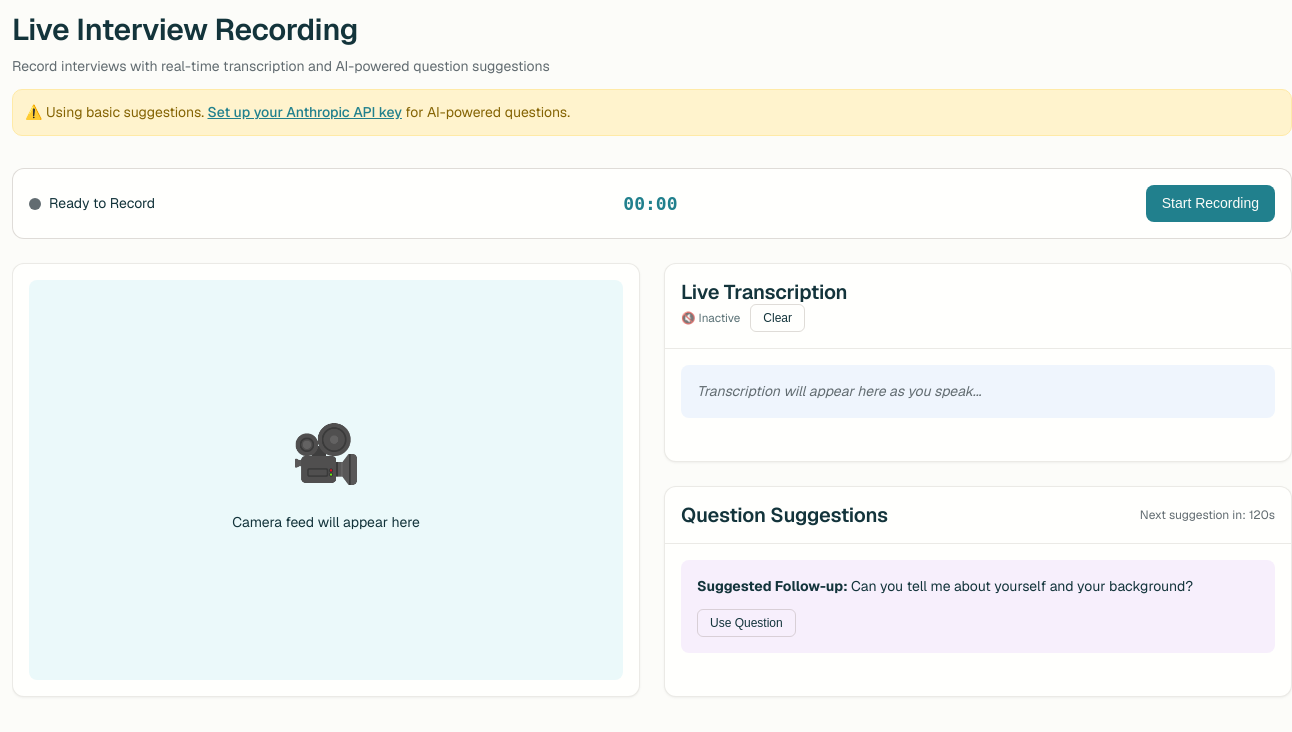
LiveInterview › uses AI suggestion when button is clicked
Click the button "Start Recording".
click(1210, 204)  # box left=1146, top=185, right=1275, bottom=222
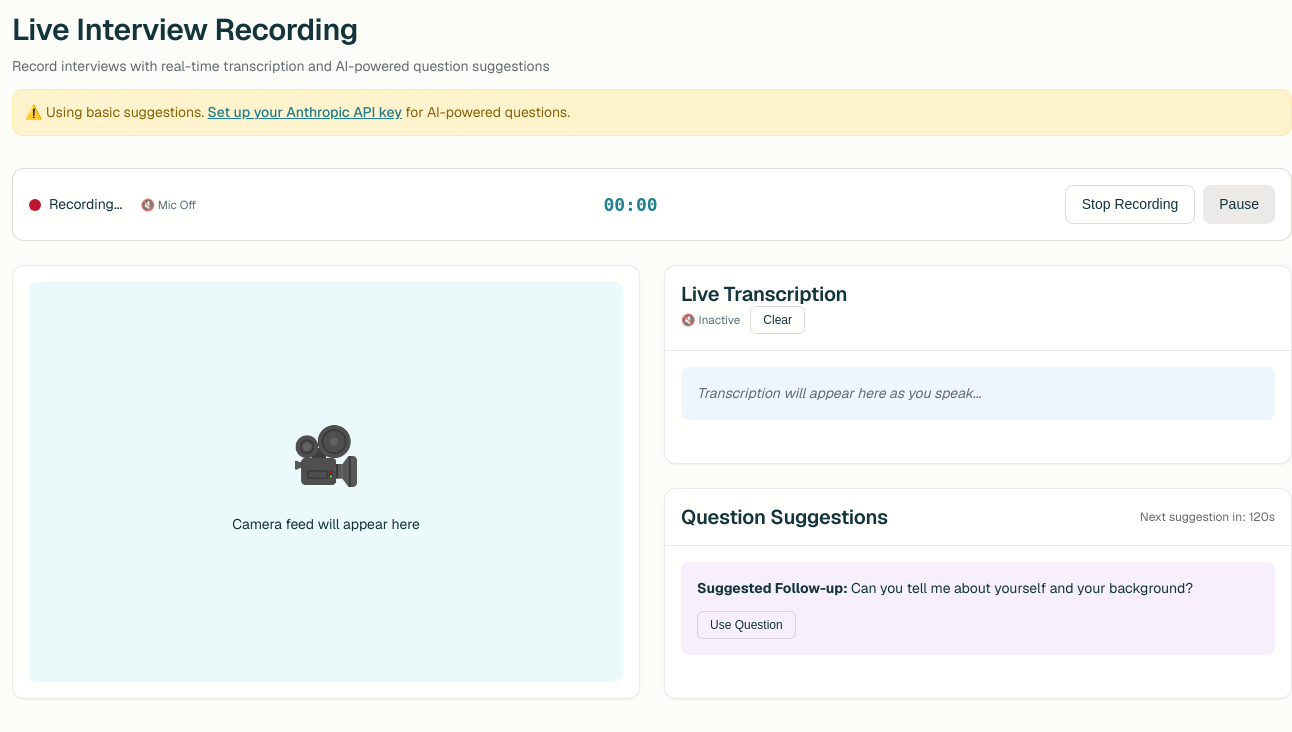
Click the button "Use Question".
click(746, 625)  # box left=697, top=611, right=796, bottom=639
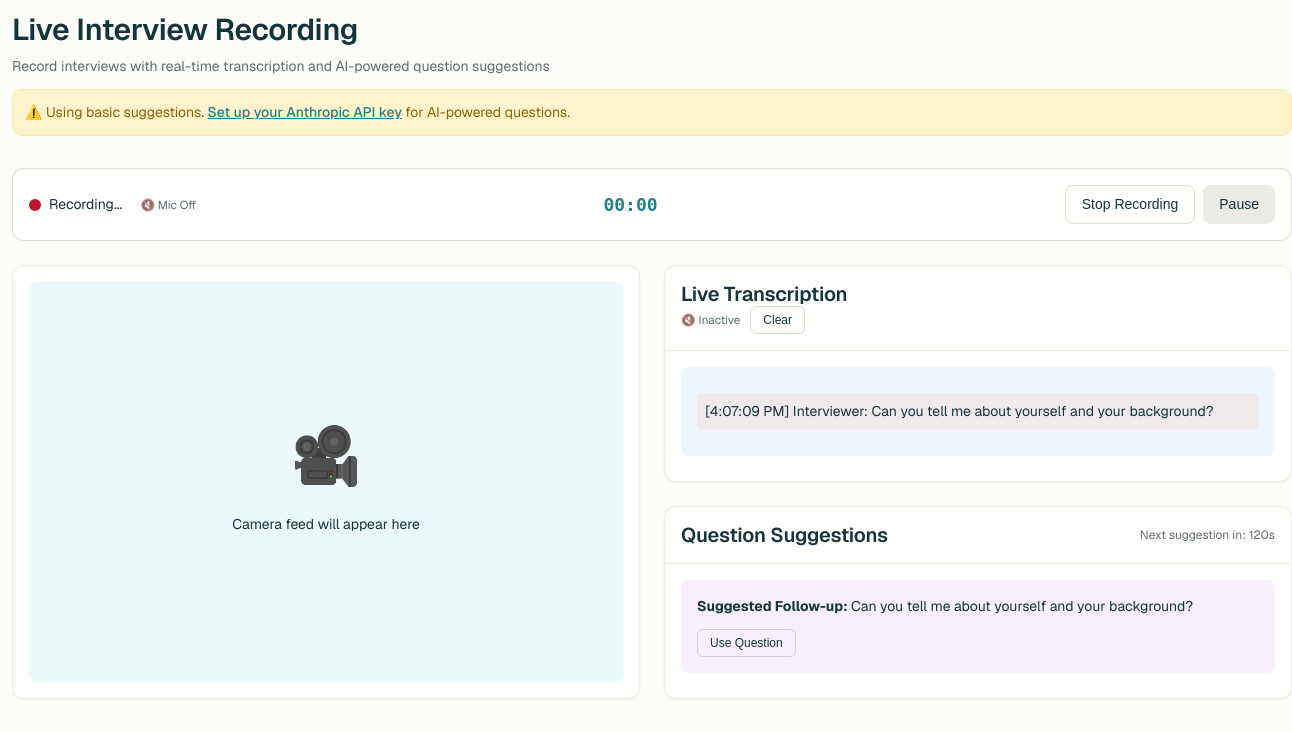
expect the text "Interviewer:" is shown: met, box left=705, top=402, right=1214, bottom=420
